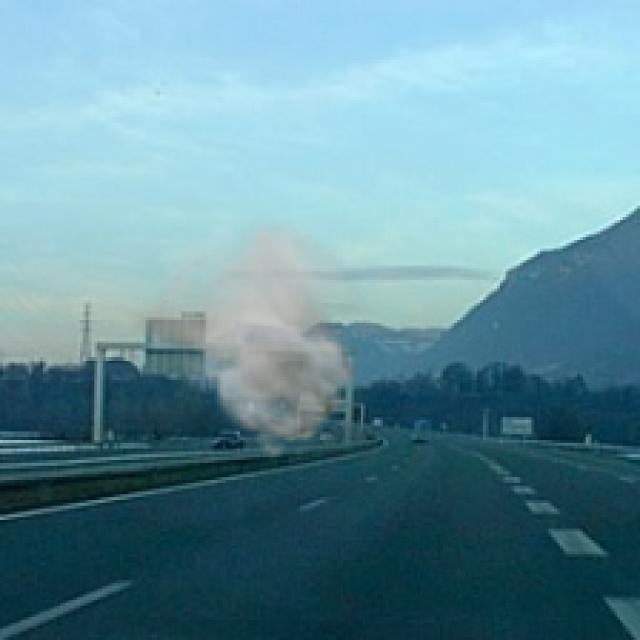Smoke: (122, 211, 378, 463)
